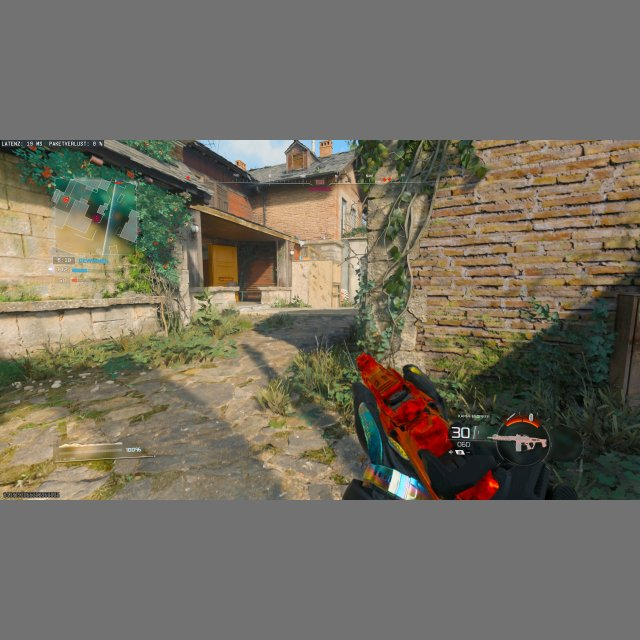player: (339, 288, 348, 305)
